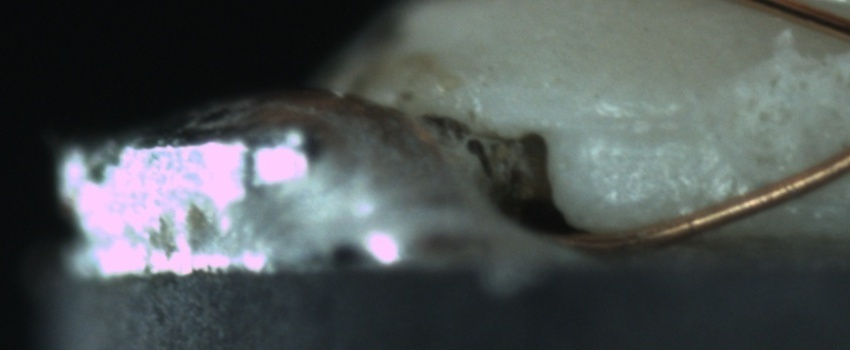DL: (574, 98, 699, 161)
